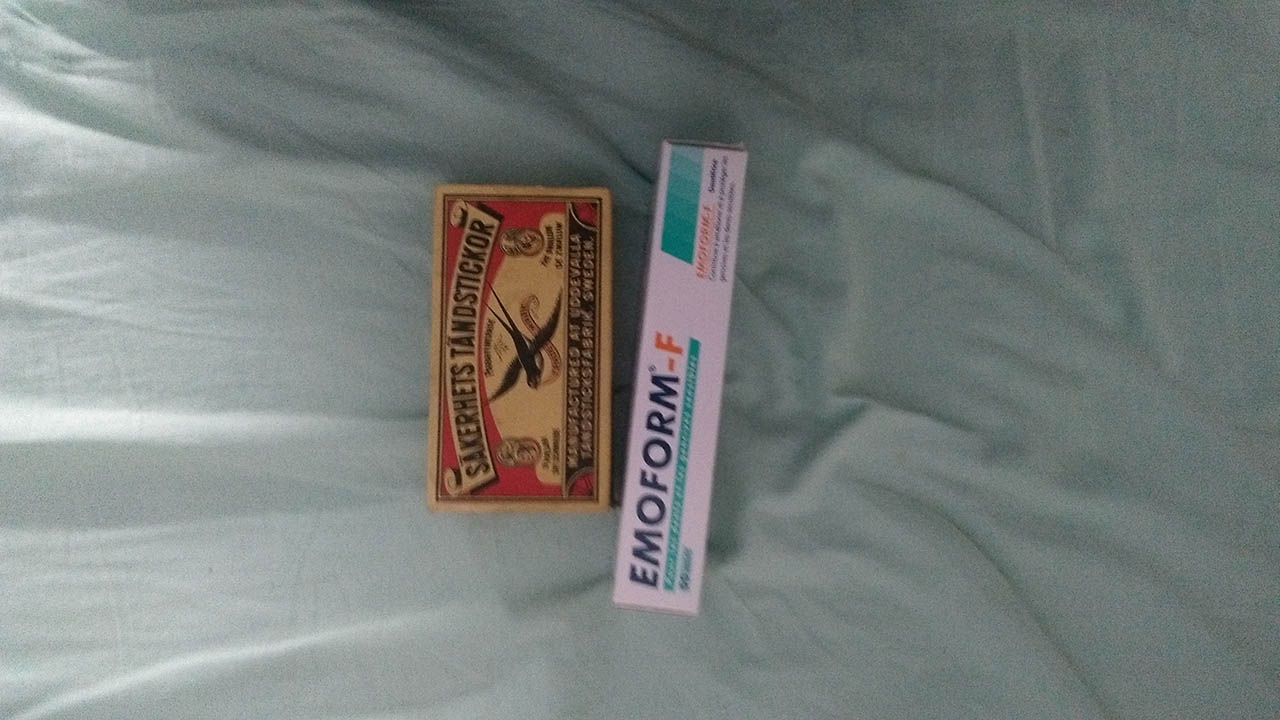Toothpaste-F 1.5$: (620, 114, 735, 638)
match-sticks .90$: (421, 189, 618, 507)
